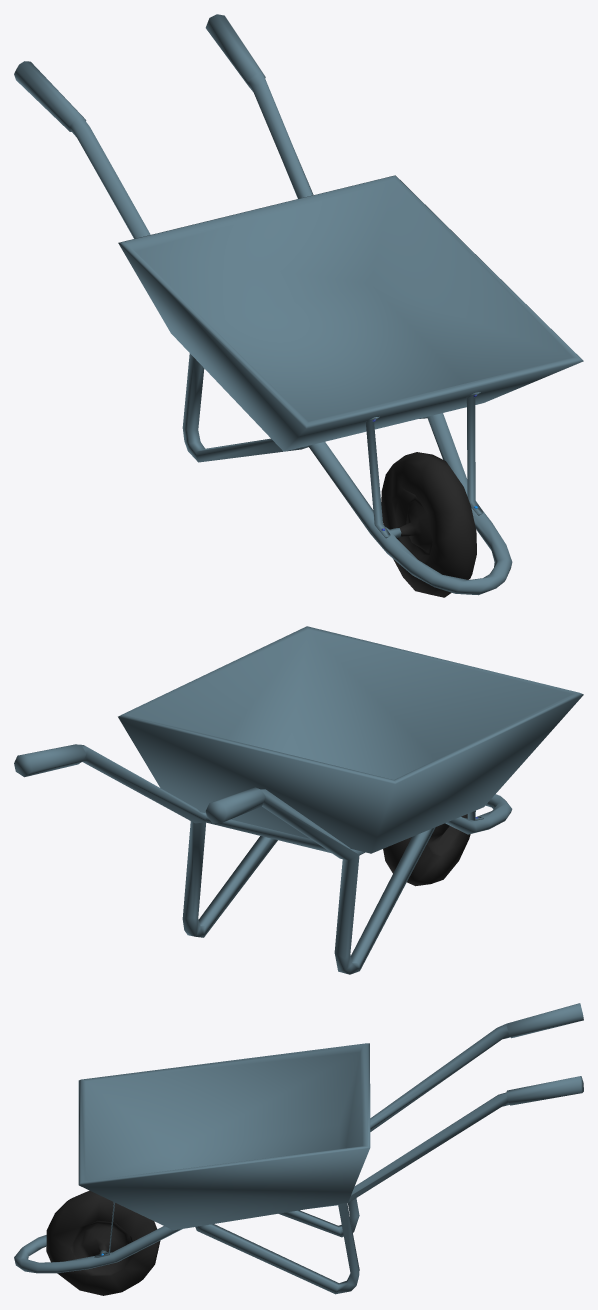
The model's file is El Arabası.fbx.
3 views of the same model, one above another, from view 1: azimuth 30°, elevation 25°; view 2: azimuth 150°, elevation 25°; view 3: azimuth 270°, elevation 25° (orthographic). The views are drawn at different scales.
Visible parts, largest first — view 1: wheelbarrow; view 2: wheelbarrow; view 3: wheelbarrow.
Part boxes in pixels (x1=…): wheelbarrow: x1=14, y1=14, x2=583, y2=597; wheelbarrow: x1=14, y1=626, x2=583, y2=974; wheelbarrow: x1=14, y1=1003, x2=583, y2=1295.
Size of the model in its own units: 64.04 by 72.48 by 147.
